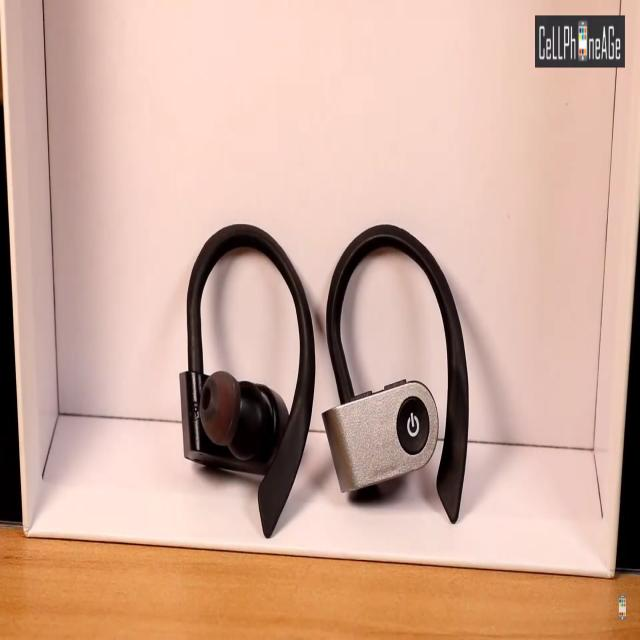airpods: (320, 218, 471, 528), (175, 217, 318, 543)
